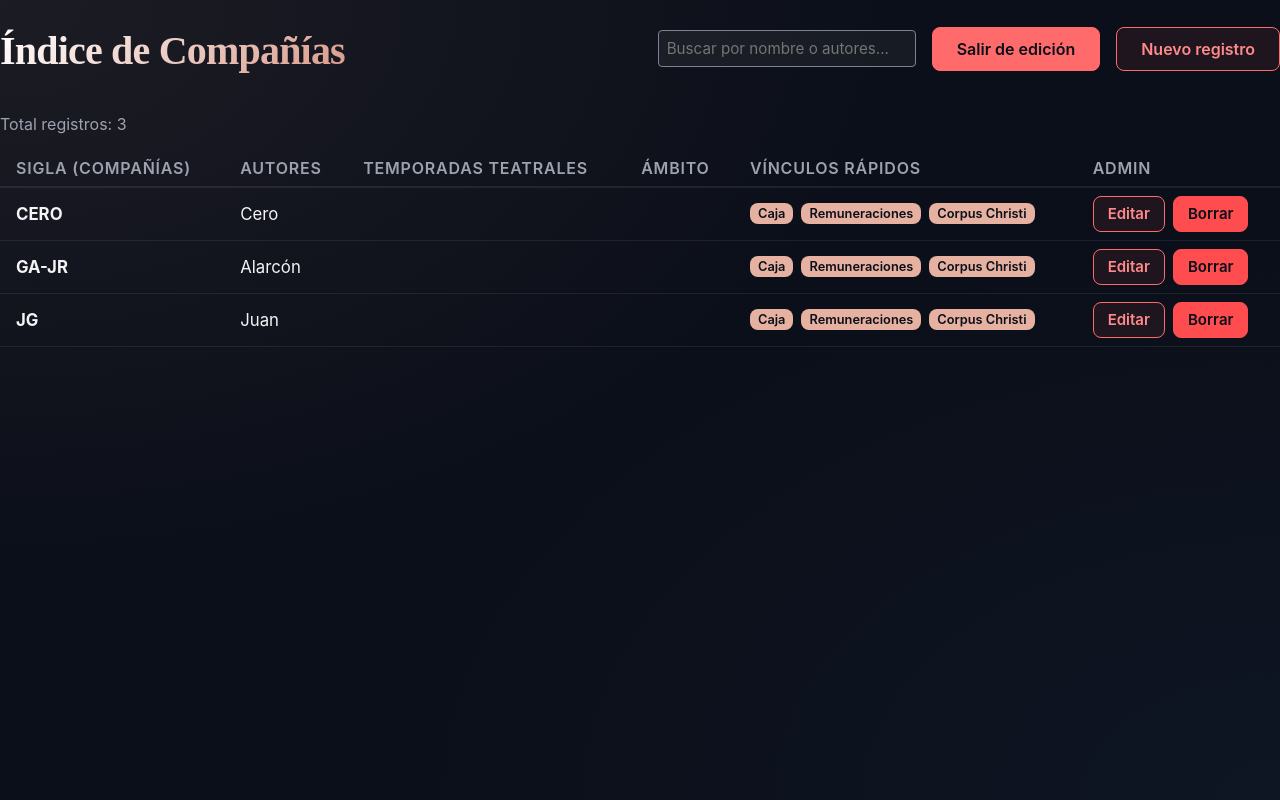
Test: borrado de compañías: integridad referencial › referenciada solo desde Corpus (campo Cmp2) NO se puede borrar
Click the button "Borrar" in the row of "GA-JR". click: click(1211, 267)
box: [1173,249,1248,285]
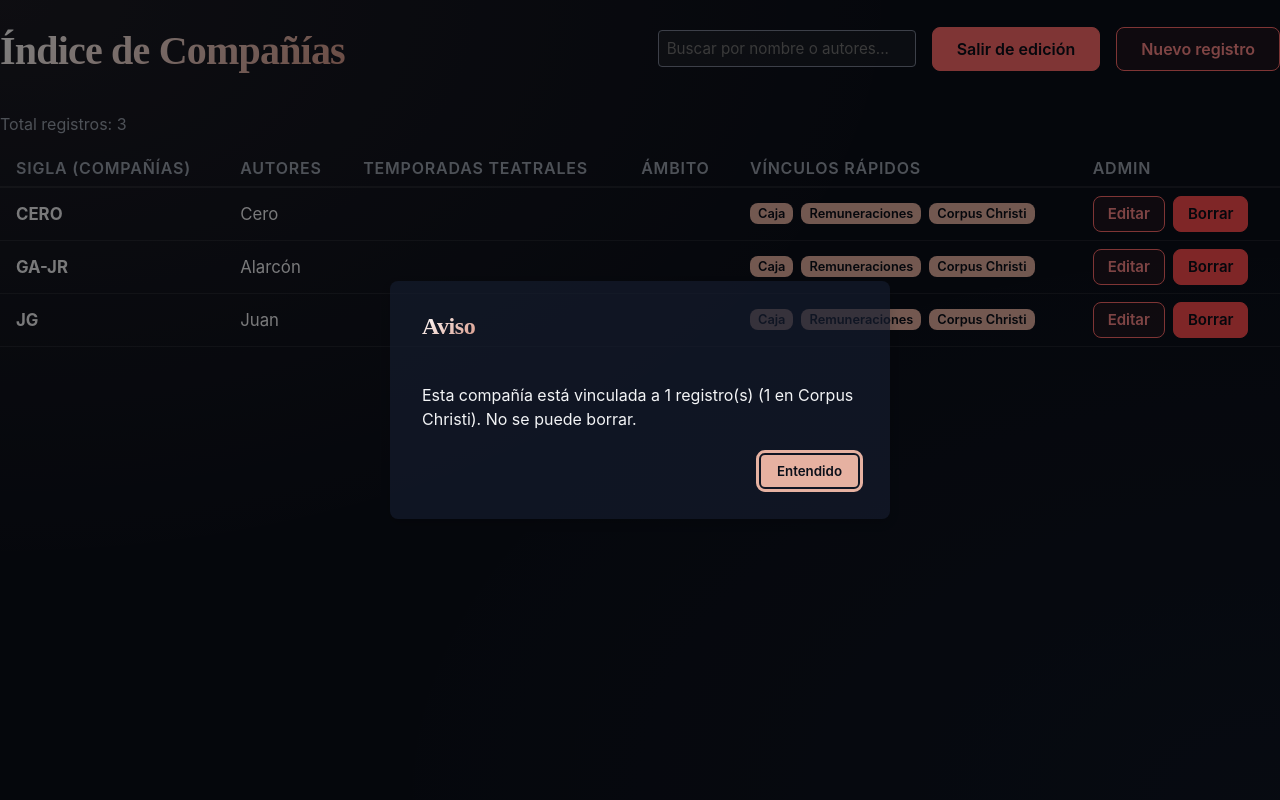
expect the text "vinculada a 1 registro(s) (1 en Corpus Christi)" is shown: met, box [422,386,853,430]
